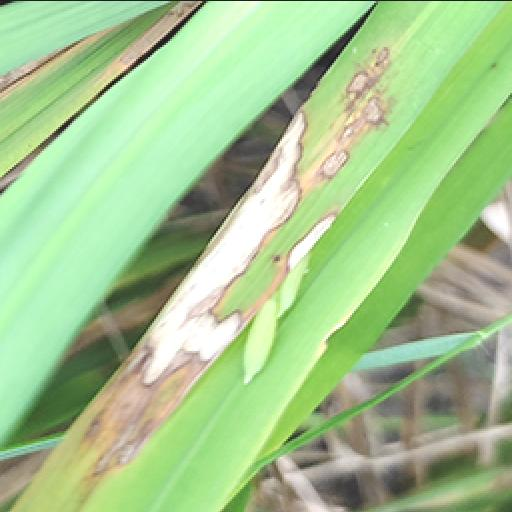Leaf Blast Disease: (122, 86, 310, 396), (310, 36, 426, 182), (64, 0, 204, 114), (58, 372, 156, 498), (278, 210, 354, 280), (0, 30, 60, 116)
